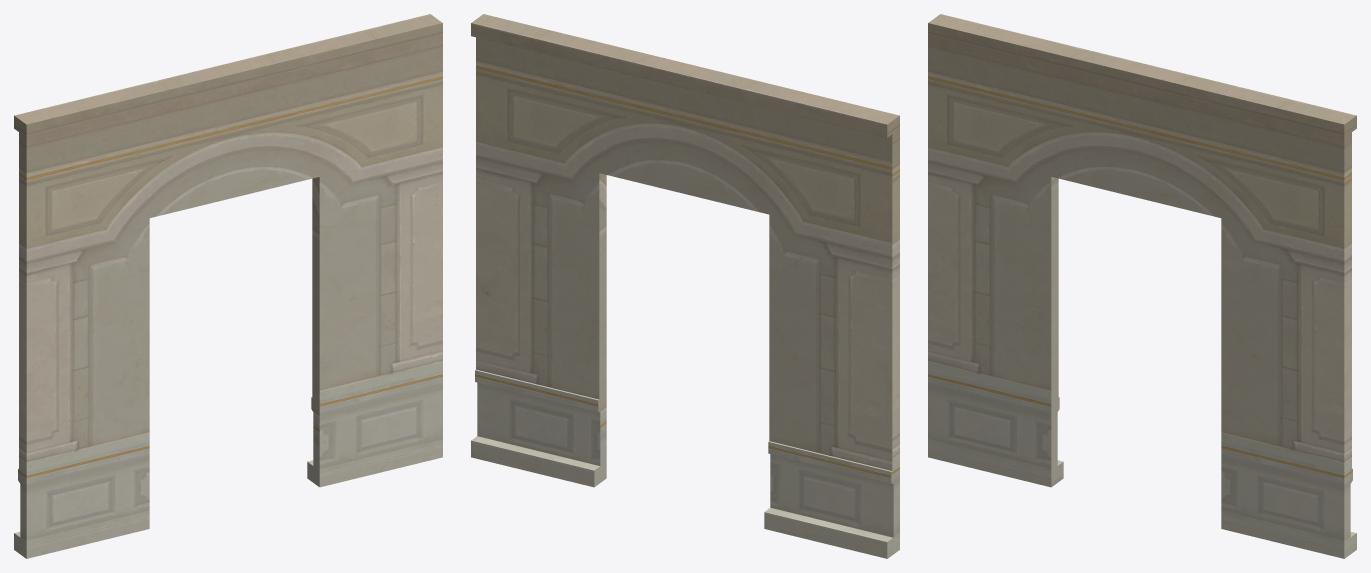
Rendered from Homeworld_Interior_Fd_Room_Wall_06_Vo.fbx.
3 renders of one model, left to right at view 1: azimuth 30°, elevation 25°; view 2: azimuth 150°, elevation 25°; view 3: azimuth 330°, elevation 25°, orthographic.
Parts seen in each view (by area): view 1: Homeworld_Interior_Fd_Room_Wall_06_Vo; view 2: Homeworld_Interior_Fd_Room_Wall_06_Vo; view 3: Homeworld_Interior_Fd_Room_Wall_06_Vo.
Boxes of the visible parts, x1,y1,x2,y2 form: Homeworld_Interior_Fd_Room_Wall_06_Vo: (14, 14, 442, 558); Homeworld_Interior_Fd_Room_Wall_06_Vo: (471, 14, 899, 558); Homeworld_Interior_Fd_Room_Wall_06_Vo: (928, 14, 1356, 558).
Bounding box in the file's own units: 5 × 4.99 × 0.2574.
